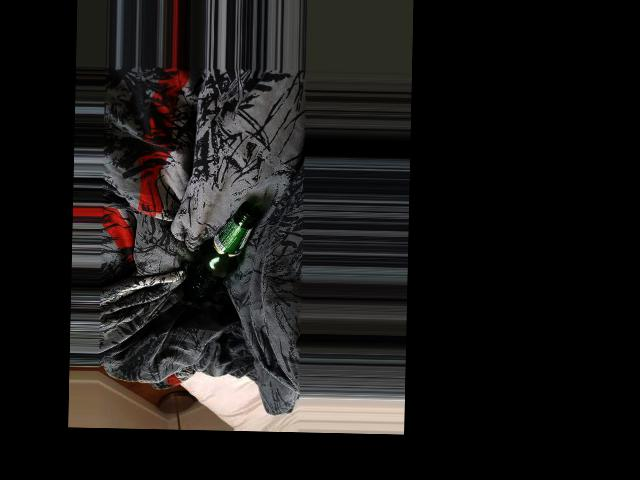beer: (183, 199, 258, 303)
